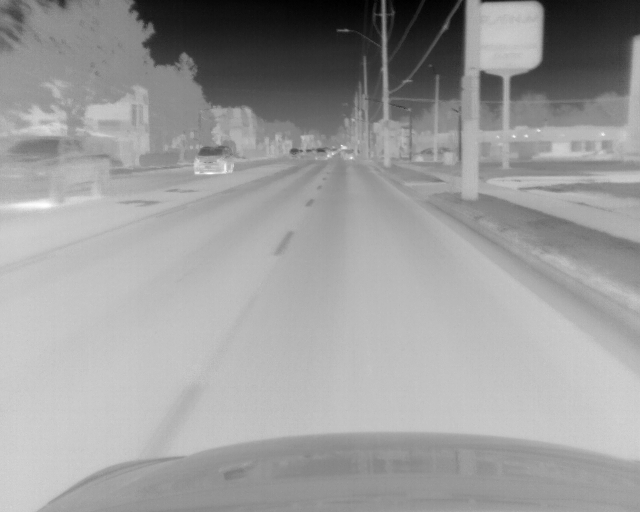car: (1, 135, 112, 208), (192, 145, 234, 176), (407, 146, 453, 162), (314, 148, 331, 162), (341, 147, 354, 160), (289, 147, 302, 159), (328, 145, 337, 155), (304, 147, 312, 157)
